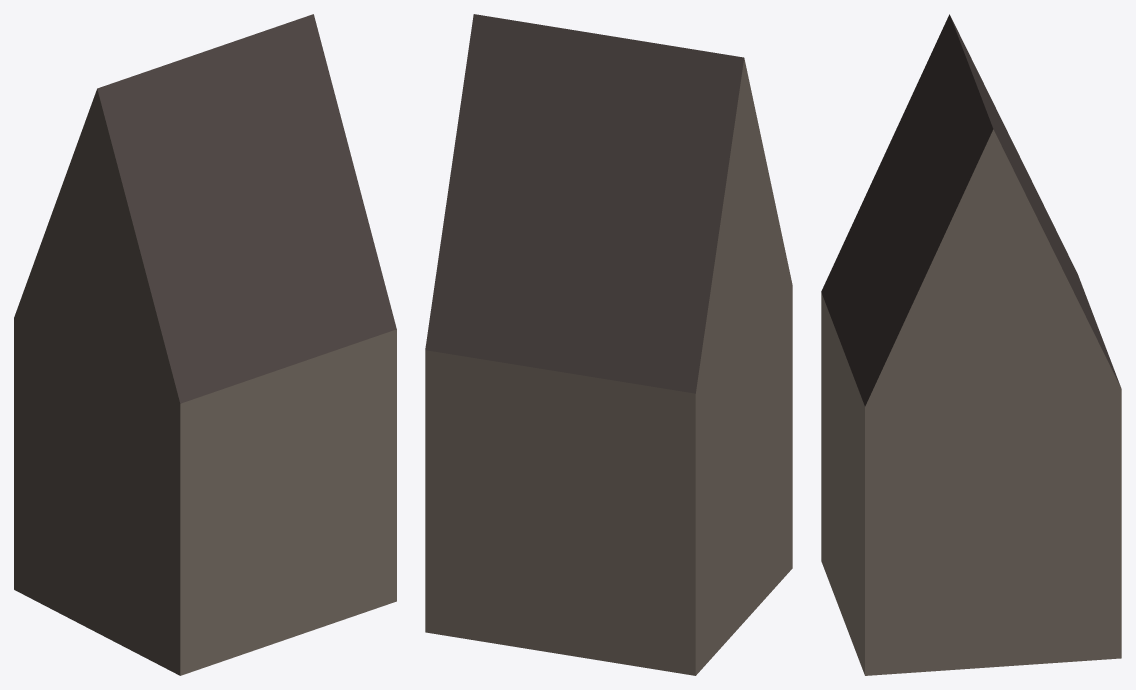
3 views of the same model, side by side, from view 1: azimuth 30°, elevation 25°; view 2: azimuth 150°, elevation 25°; view 3: azimuth 270°, elevation 25° (orthographic). The views are drawn at different scales.
Visible parts, largest first — view 1: HP-w428186468; view 2: HP-w428186468; view 3: HP-w428186468.
Part boxes in pixels (x1=…): HP-w428186468: x1=14, y1=14, x2=396, y2=675; HP-w428186468: x1=425, y1=14, x2=792, y2=675; HP-w428186468: x1=821, y1=14, x2=1121, y2=675.
Size of the model in its own units: 3.17 by 6 by 3.04.
